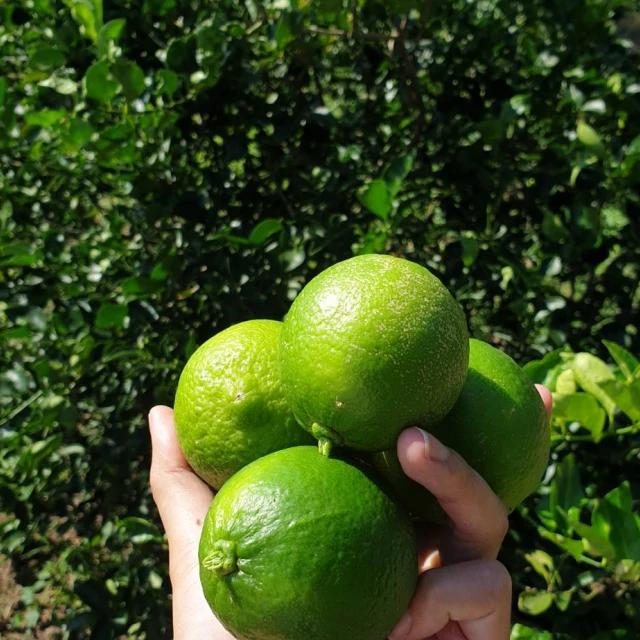lime: (188, 431, 437, 640), (265, 238, 478, 472), (347, 310, 559, 524), (163, 294, 352, 497)
